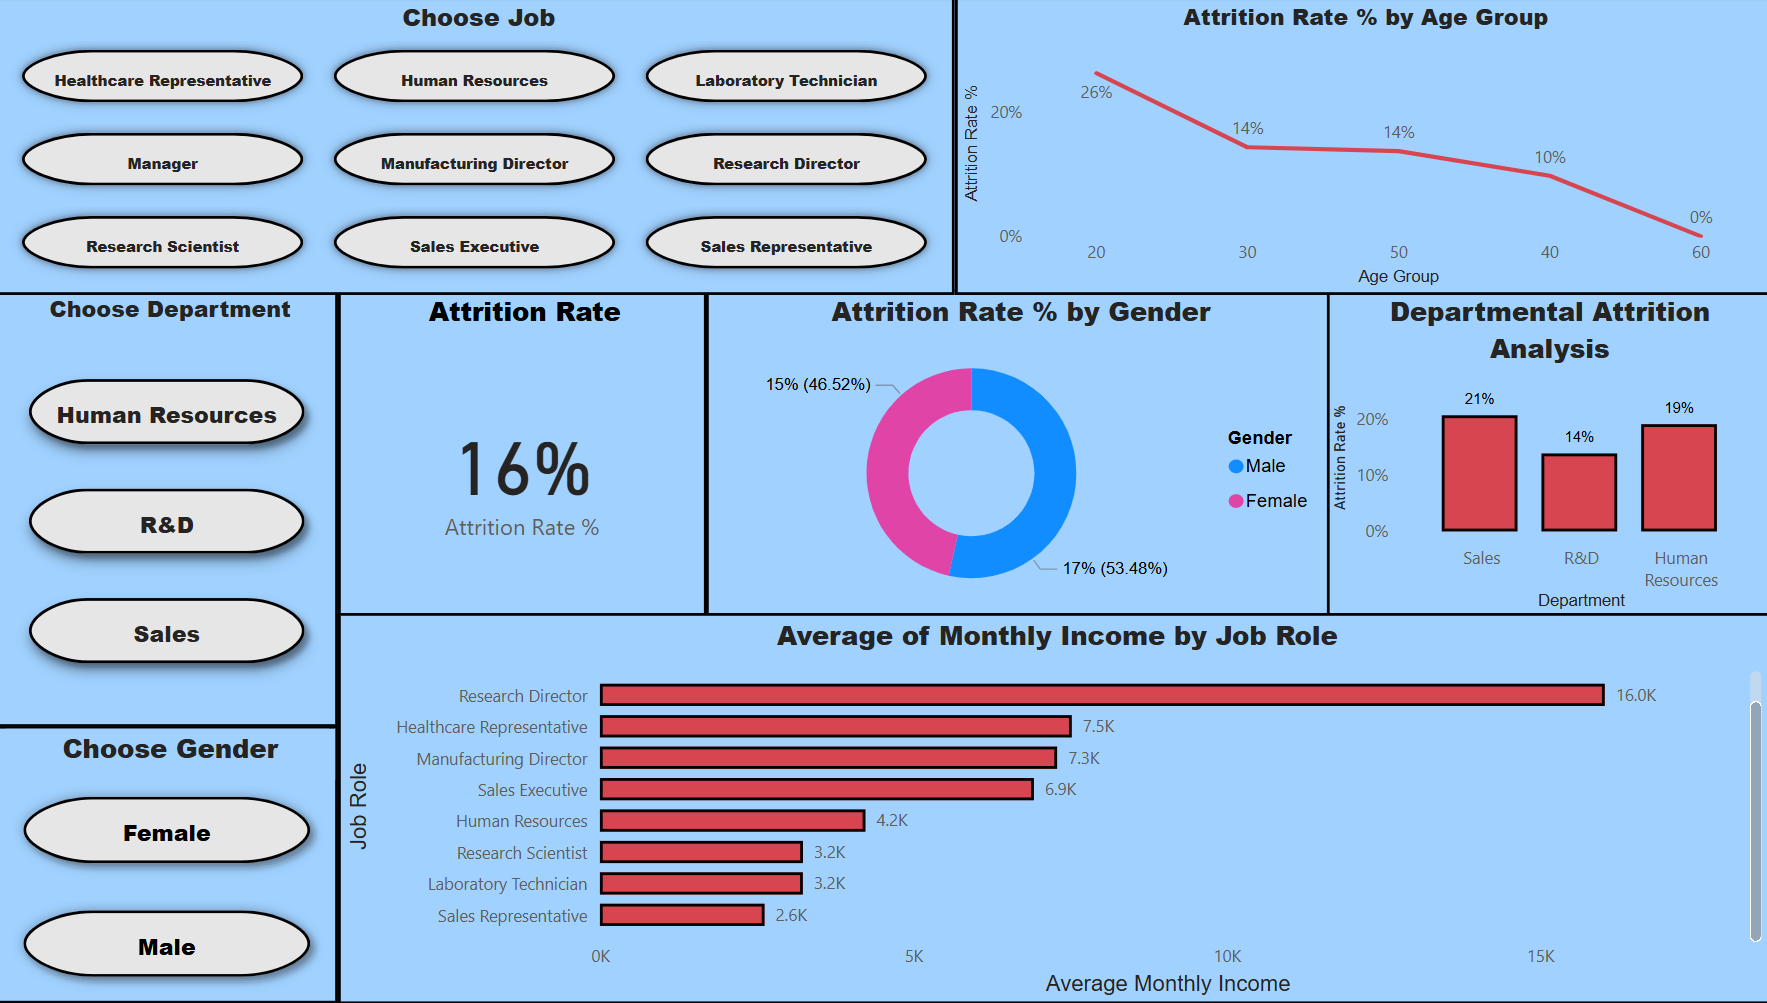

This screenshot's page, from the dashboard's own definition file:
{"tool":"powerbi","page":{"name":"Page 1","canvas":[1280,727],"ordinal":0},"visuals":[{"type":"card","title":"Attrition Rate","fields":{"Values":["IBM HR Analytics Attrition Dataset.Attrition Rate %"]},"box":[245.8,210.6,265.6,238.7],"z":0},{"type":"clusteredColumnChart","title":"Departmental Attrition Analysis","fields":{"Category":["IBM HR Analytics Attrition Dataset.Department"],"Y":["IBM HR Analytics Attrition Dataset.Attrition Rate %"]},"box":[956.9,210.6,323.4,238.7],"z":1000},{"type":"donutChart","fields":{"Category":["IBM HR Analytics Attrition Dataset.Gender"],"Y":["IBM HR Analytics Attrition Dataset.Attrition Rate %"]},"box":[511.4,210.6,450.4,238.7],"z":2000},{"type":"lineChart","title":"Attrition Rate % by Age Group","fields":{"Y":["IBM HR Analytics Attrition Dataset.Attrition Rate %"],"Category":["IBM HR Analytics Attrition Dataset.Age Bins Cleaned"]},"box":[691.3,0,589,215],"z":3000},{"type":"clusteredBarChart","title":"Average of Monthly Income by Job Role","fields":{"Category":["IBM HR Analytics Attrition Dataset.JobRole"],"Y":["Avg(IBM HR Analytics Attrition Dataset.MonthlyIncome)"]},"box":[246,444.2,1034,282.7],"z":4000},{"type":"advancedSlicerVisual","title":"Choose Gender","fields":{"Values":["IBM HR Analytics Attrition Dataset.Gender"]},"box":[0,526.2,246,200.7],"z":5000},{"type":"advancedSlicerVisual","title":"Choose Department","fields":{"Values":["IBM HR Analytics Attrition Dataset.Department"]},"box":[0,210.5,246,315.7],"z":6000},{"type":"advancedSlicerVisual","title":"Choose Job","fields":{"Values":["IBM HR Analytics Attrition Dataset.JobRole"]},"box":[0,0,691.3,215],"z":7000}]}

Visuals, with their boxes in screenshot pixels (x1, y1, x2, y2), scaled from the page's 1280x727 canvas onto the 1767x1003 screenshot:
"Attrition Rate" card: <region>339, 291, 706, 620</region>
"Departmental Attrition Analysis" clusteredColumnChart: <region>1321, 291, 1766, 620</region>
donutChart - IBM HR Analytics Attrition Dataset.Gender x IBM HR Analytics Attrition Dataset.Attrition Rate %: <region>706, 291, 1328, 620</region>
"Attrition Rate % by Age Group" lineChart: <region>954, 0, 1766, 297</region>
"Average of Monthly Income by Job Role" clusteredBarChart: <region>340, 613, 1766, 1002</region>
"Choose Gender" advancedSlicerVisual: <region>0, 726, 340, 1002</region>
"Choose Department" advancedSlicerVisual: <region>0, 290, 340, 726</region>
"Choose Job" advancedSlicerVisual: <region>0, 0, 954, 297</region>
